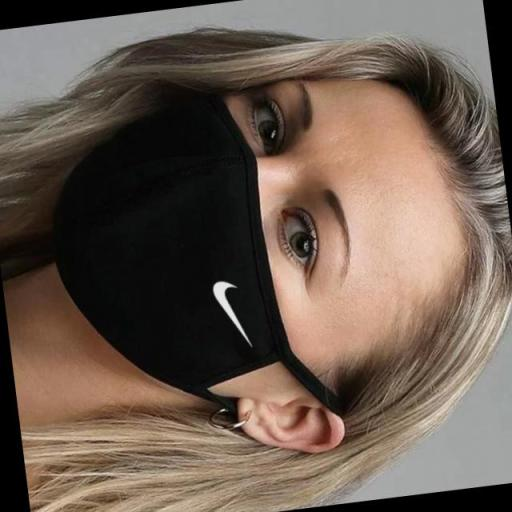Nike: (204, 272, 254, 354)
